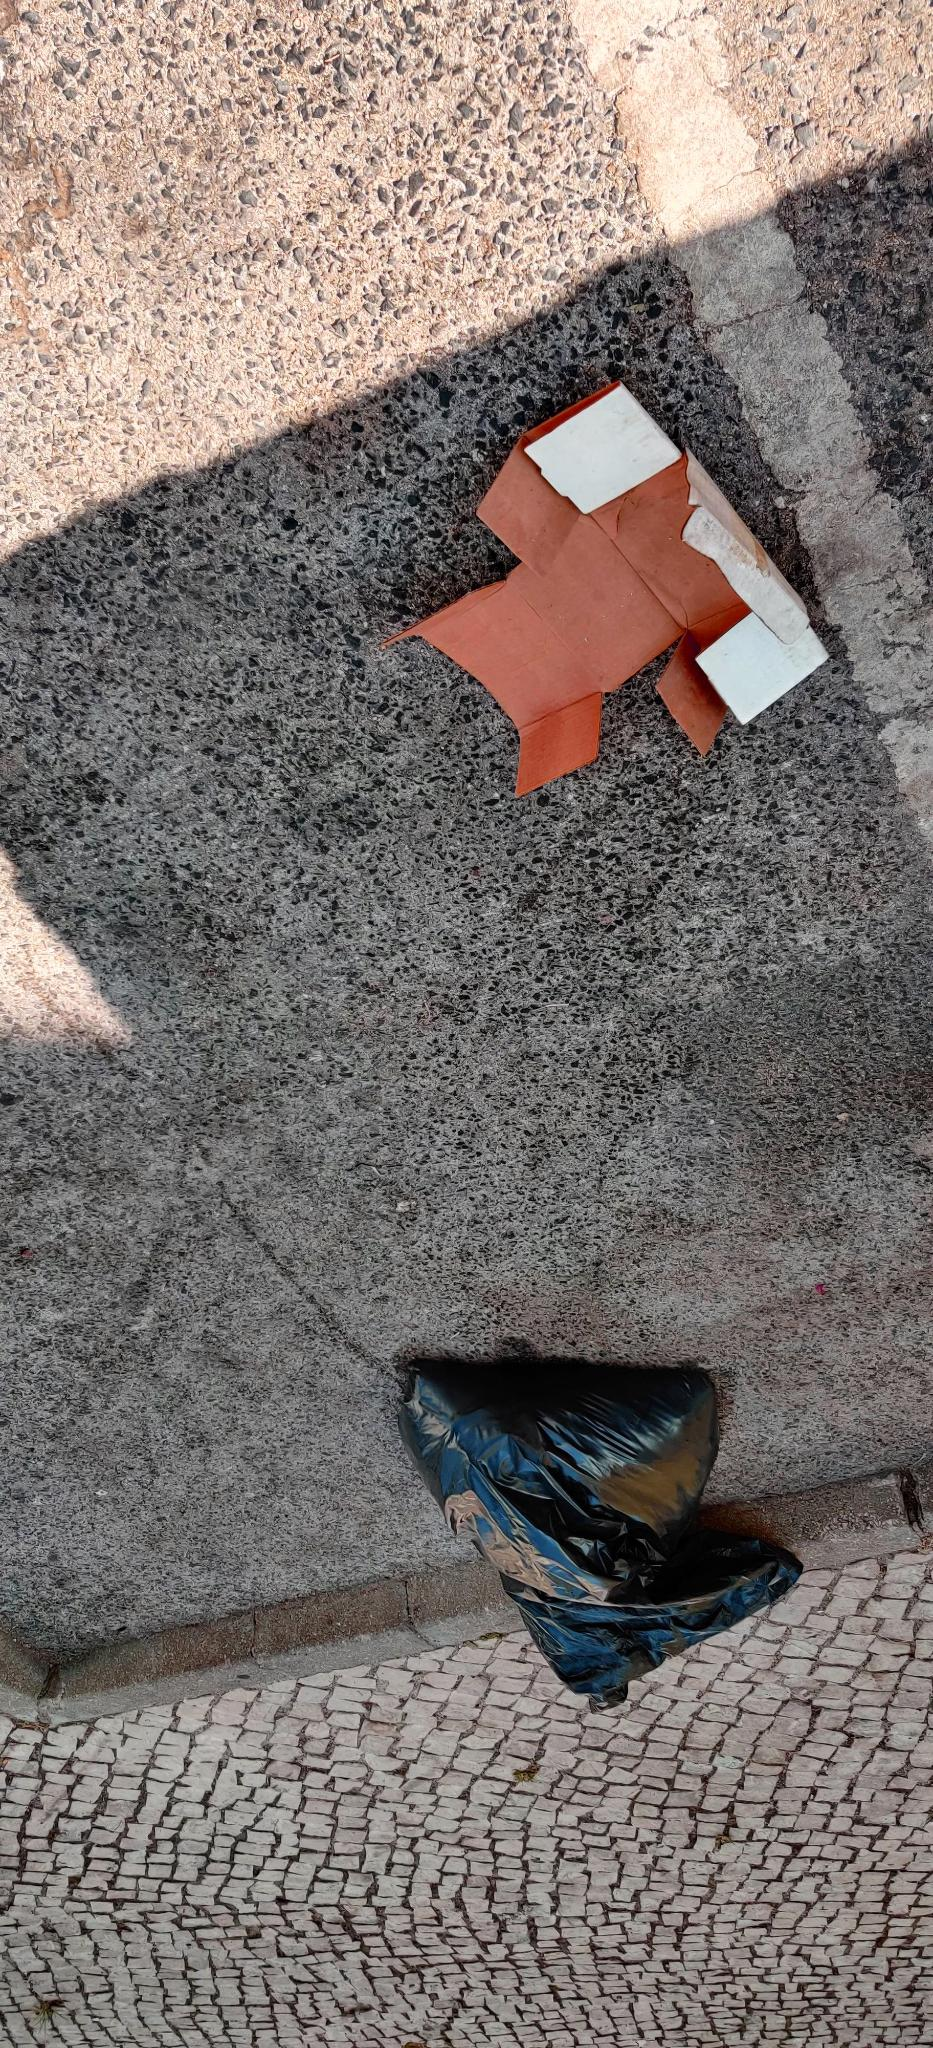Plastic: (361, 1313, 843, 1732)
